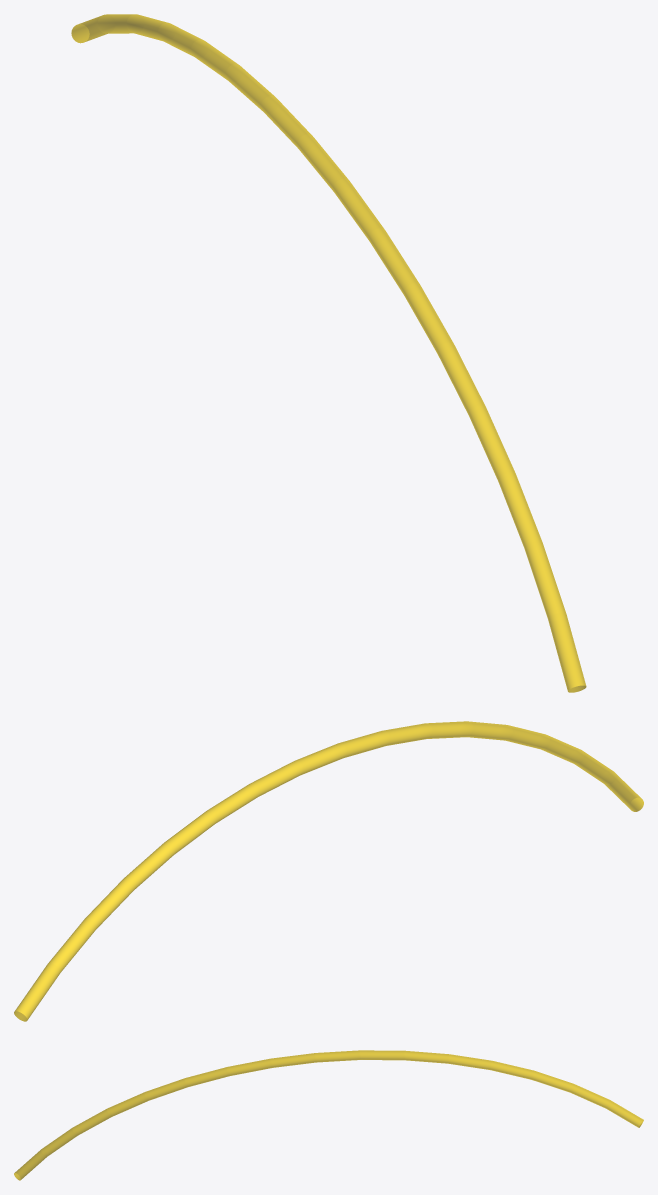
The model's file is Event_100608114_track_40.fbx.
3 renders of one model, top to bottom at view 1: azimuth 30°, elevation 25°; view 2: azimuth 150°, elevation 25°; view 3: azimuth 270°, elevation 25°, orthographic. The views are drawn at different scales.
Parts seen in each view (by area): view 1: Model; view 2: Model; view 3: Model.
Boxes of the visible parts, x1=… form: Model: x1=71, y1=14, x2=586, y2=692; Model: x1=14, y1=721, x2=643, y2=1021; Model: x1=14, y1=1050, x2=643, y2=1180.
Bounding box in the file's own units: 0.344 × 0.6769 × 2.61.
